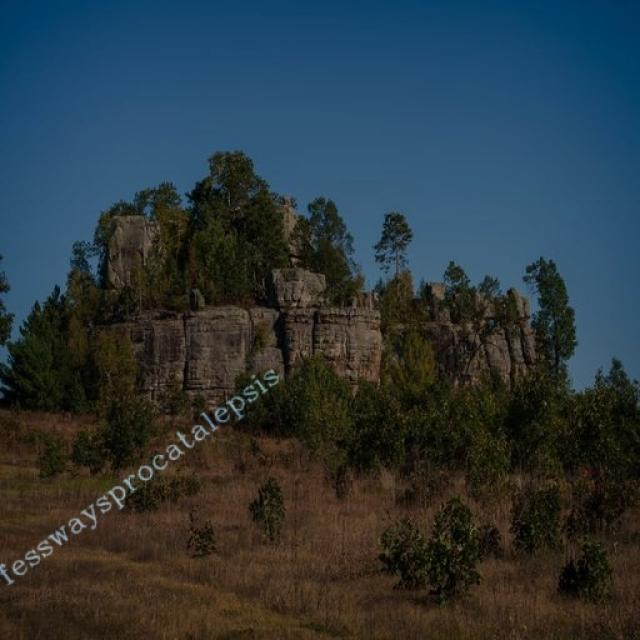watermark: (0, 356, 280, 590)
